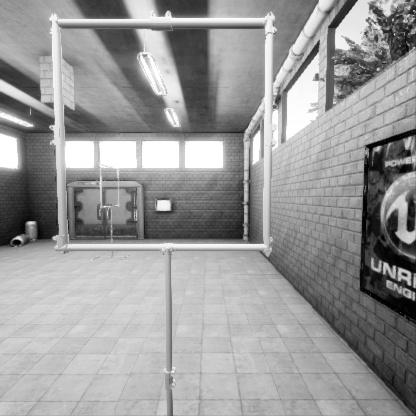gate: (51, 172, 296, 414), (99, 209, 119, 254)
